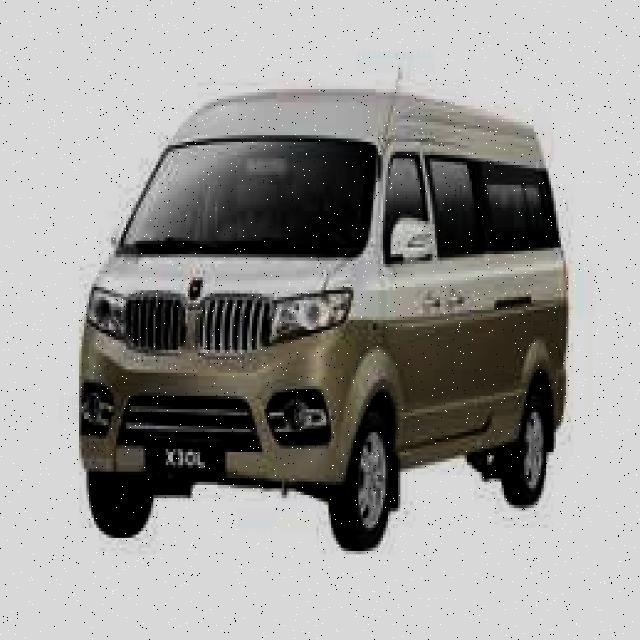Van: (62, 72, 588, 544)
